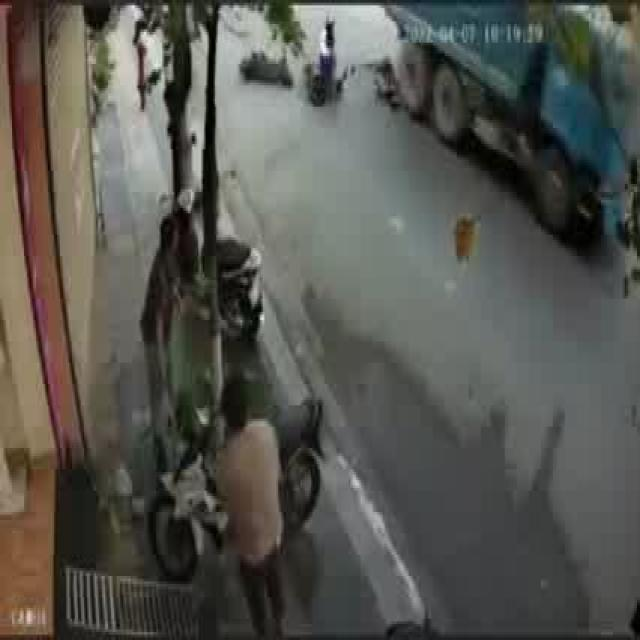multiple_accident: (235, 9, 409, 122)
